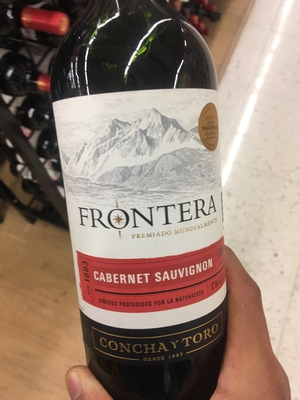frontera cabernet sauvignon: (49, 10, 233, 399)
